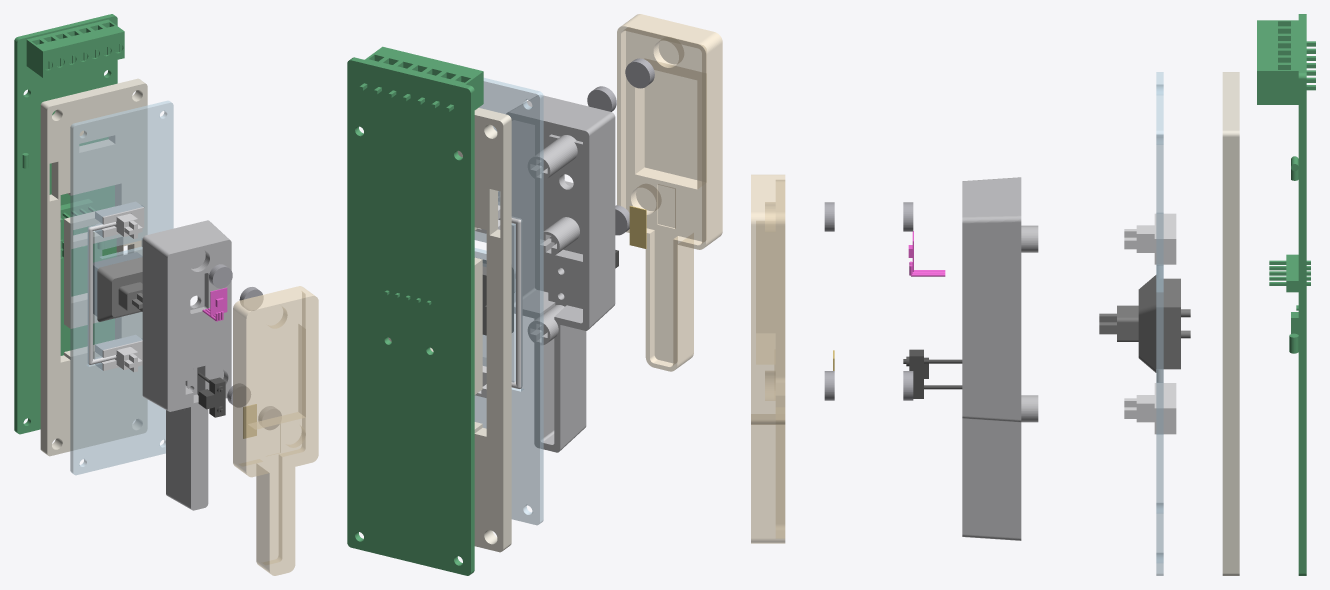
Rendered from stack_exploded.glb.
3 renders of one model, left to right at view 1: azimuth 30°, elevation 25°; view 2: azimuth 150°, elevation 25°; view 3: azimuth 270°, elevation 25°, orthographic. The views are drawn at different scales.
Visible parts, largest first — view 1: 2_foam, 3_acrylic_plate, 1_pcb, 5_topper, 4_key, 3b_stabilizer, 3a_switch, 4b_magnets_key, 4c_pogo_connector, 5a_magnets_topper, 4a_rgb_led_strip_piece, 5b_short_plate; view 2: 1_pcb, 4_key, 5_topper, 2_foam, 3_acrylic_plate, 3b_stabilizer, 5a_magnets_topper, 5b_short_plate, 4b_magnets_key, 3a_switch; view 3: 4_key, 5_topper, 1_pcb, 2_foam, 3a_switch, 3b_stabilizer, 3_acrylic_plate, 4c_pogo_connector.
Boxes of the visible parts, <box> form: 2_foam: <box>40,78,147,456</box>; 3_acrylic_plate: <box>70,100,173,475</box>; 1_pcb: <box>14,14,124,434</box>; 5_topper: <box>233,286,318,575</box>; 4_key: <box>142,220,231,510</box>; 3b_stabilizer: <box>88,202,144,372</box>; 3a_switch: <box>93,252,142,321</box>; 4b_magnets_key: <box>209,264,250,407</box>; 4c_pogo_connector: <box>198,372,225,417</box>; 5a_magnets_topper: <box>239,287,281,429</box>; 4a_rgb_led_strip_piece: <box>202,287,227,321</box>; 5b_short_plate: <box>243,404,256,438</box>; 1_pcb: <box>347,46,483,575</box>; 4_key: <box>506,95,615,452</box>; 5_topper: <box>617,14,722,371</box>; 2_foam: <box>388,107,511,552</box>; 3_acrylic_plate: <box>474,78,543,525</box>; 3b_stabilizer: <box>475,191,522,397</box>; 5a_magnets_topper: <box>615,58,654,235</box>; 5b_short_plate: <box>629,206,646,248</box>; 4b_magnets_key: <box>587,86,616,111</box>; 3a_switch: <box>482,259,515,335</box>; 4_key: <box>962,177,1038,540</box>; 5_topper: <box>751,174,785,543</box>; 1_pcb: <box>1257,14,1315,575</box>; 2_foam: <box>1222,72,1239,575</box>; 3a_switch: <box>1099,275,1190,372</box>; 3b_stabilizer: <box>1124,213,1176,434</box>; 3_acrylic_plate: <box>1156,72,1163,575</box>; 4c_pogo_connector: <box>903,349,962,398</box>.
Size of the model in its own units: 30 by 113 by 115.
